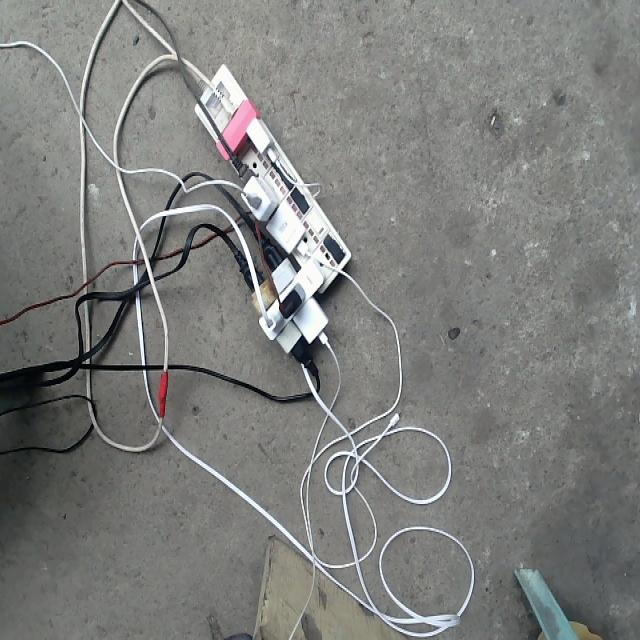-: (192, 61, 351, 363)
